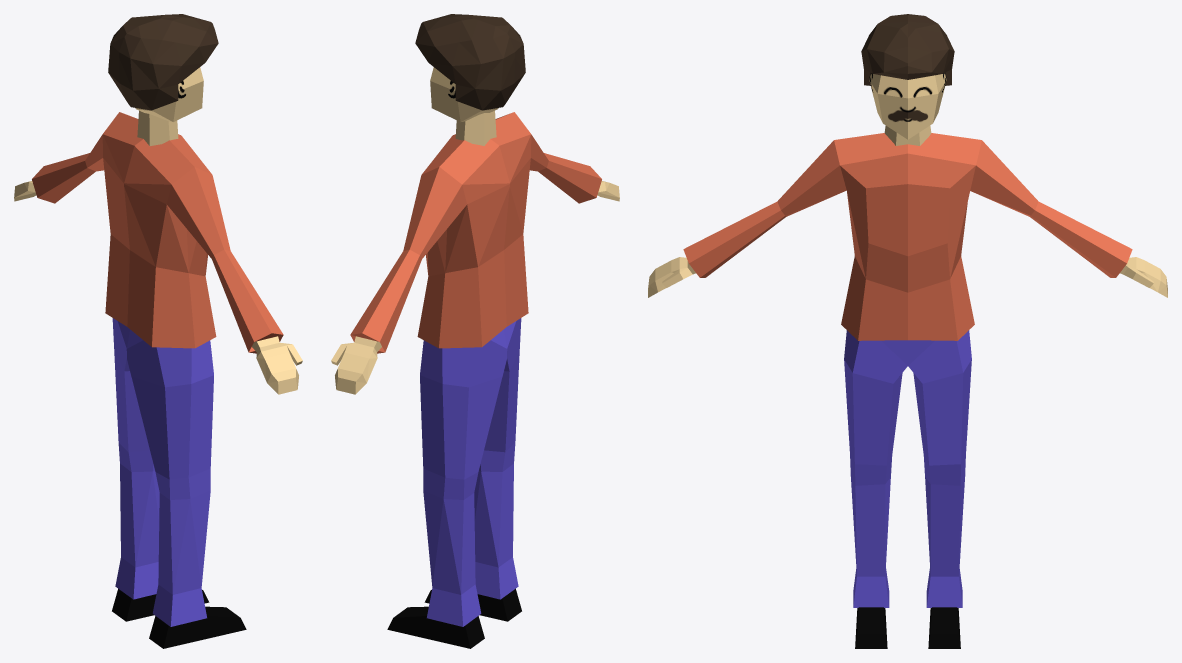
The model's file is npc.glb.
3 renders of one model, left to right at view 1: azimuth 30°, elevation 25°; view 2: azimuth 150°, elevation 25°; view 3: azimuth 270°, elevation 25°, orthographic.
Visible parts, largest first — view 1: man_npc; view 2: man_npc; view 3: man_npc.
Boxes of the visible parts, <box> form: man_npc: <box>14,14,302,648</box>; man_npc: <box>331,14,619,648</box>; man_npc: <box>648,14,1167,648</box>.
Size of the model in its own units: 2.16 by 12.43 by 9.81.
Materials: 6 (1 with a texture image).
